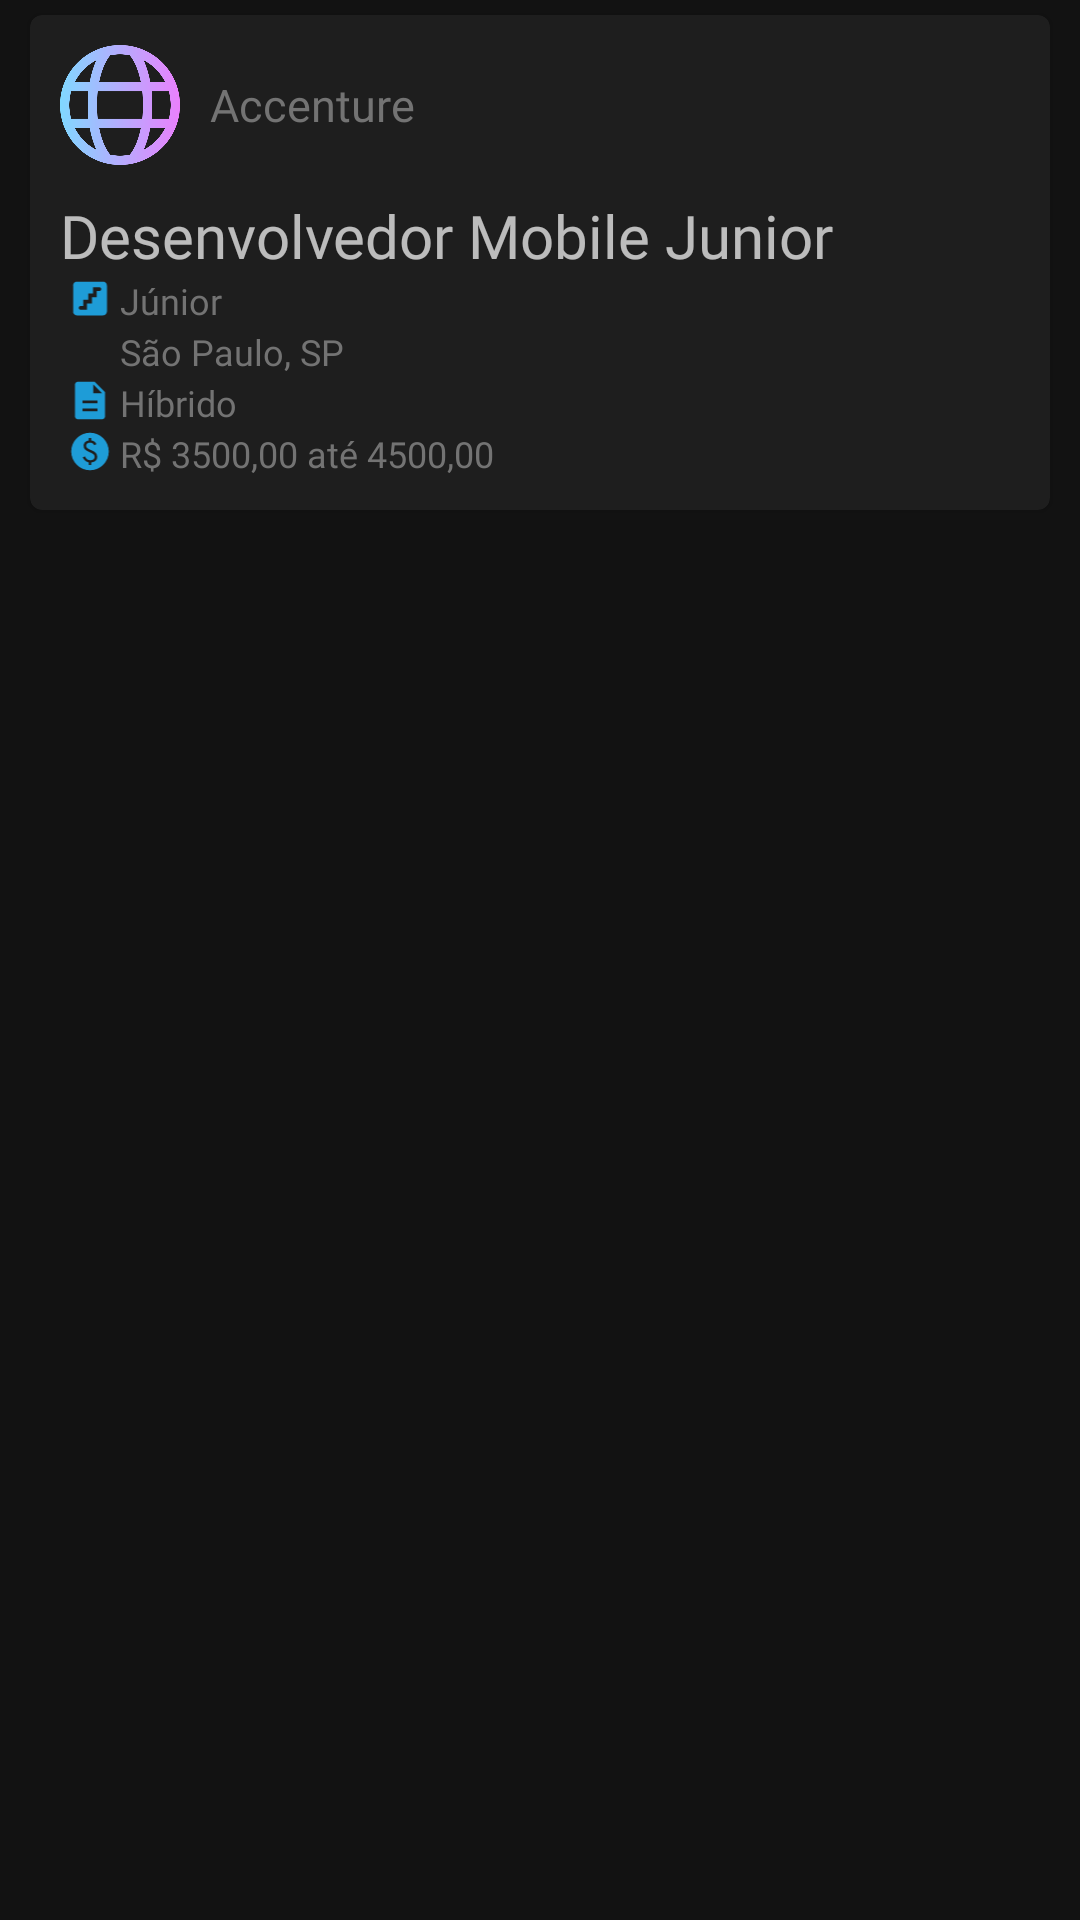

Icons on this 1080px x 1920px Android screen, each with the point to tap as point (x, y):
description: point (90, 400)
paid: point (90, 451)
stairs: point (90, 298)
world: point (120, 105)
